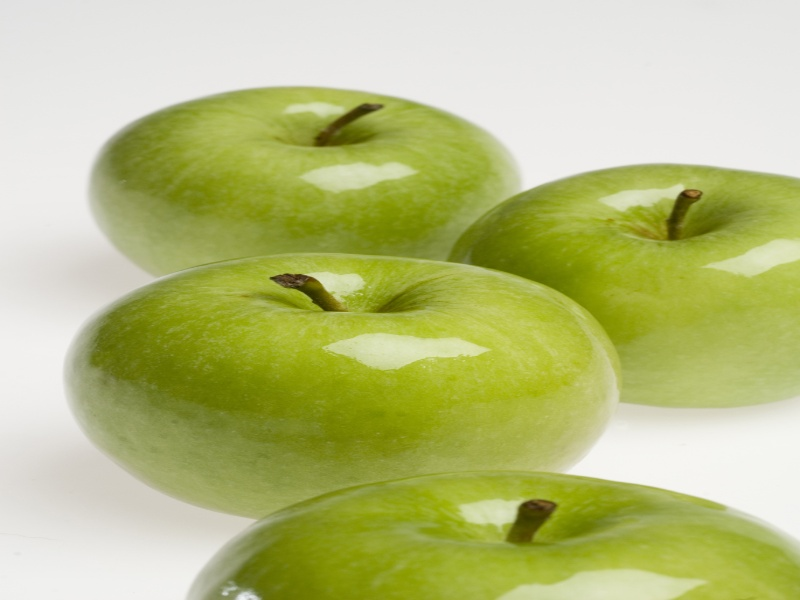apple: (60, 249, 624, 479), (78, 74, 513, 247), (515, 151, 800, 405), (178, 483, 800, 597)
